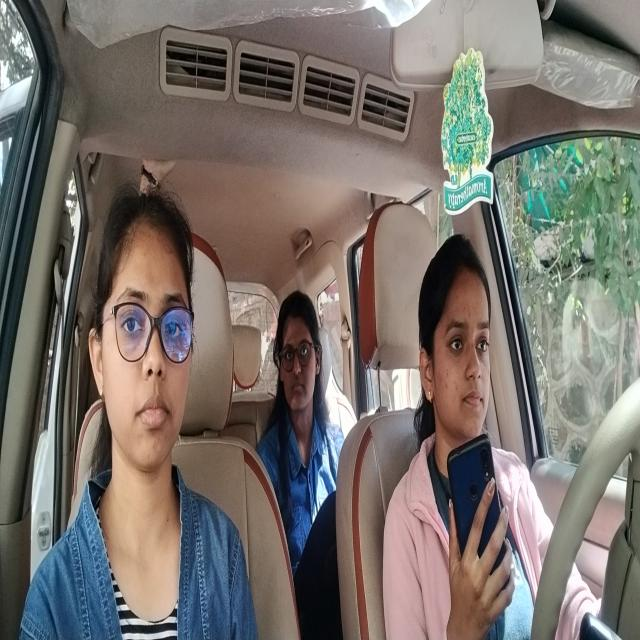mobile: (441, 437, 513, 602)
person: (87, 171, 198, 514), (418, 240, 500, 444), (260, 262, 328, 458)
